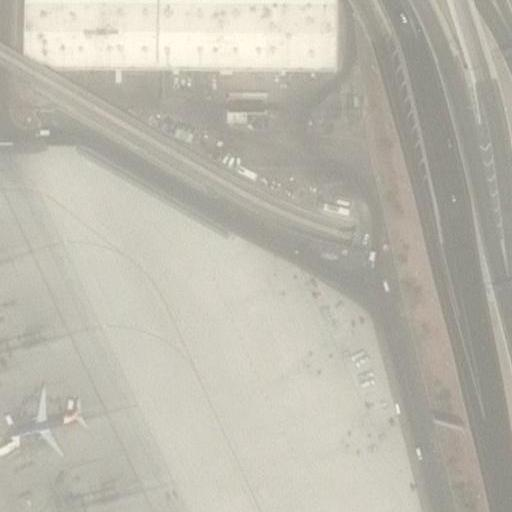Aircraft: (4, 389, 87, 451), (0, 241, 5, 304)
